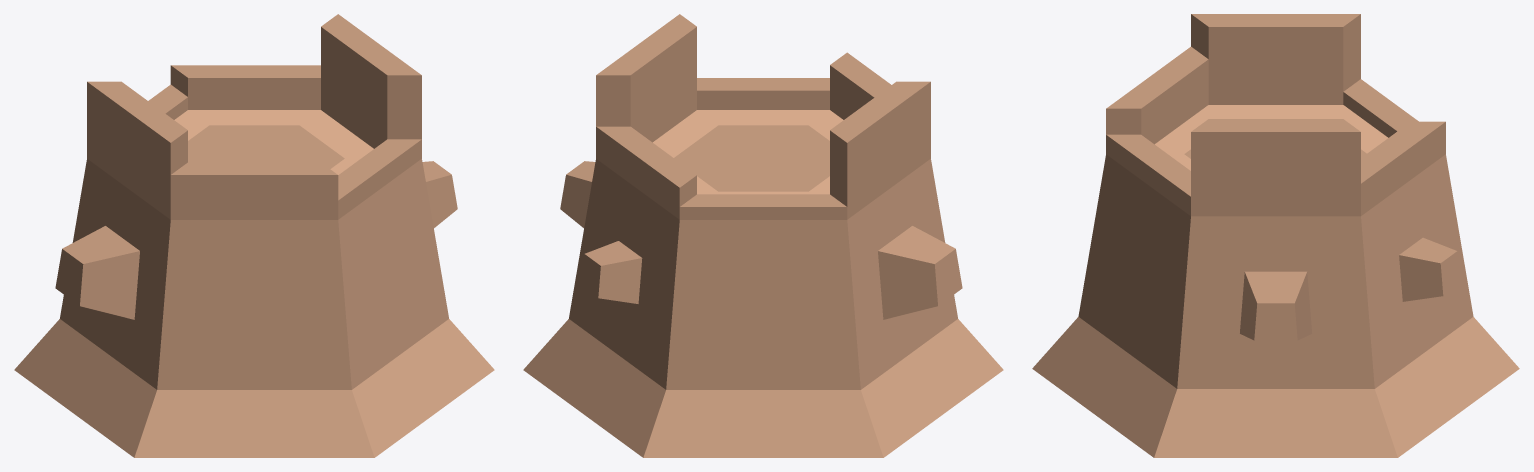
Rendered from trunk.glb.
The picture shows the model from 3 angles, left to right: view 1: azimuth 30°, elevation 25°; view 2: azimuth 150°, elevation 25°; view 3: azimuth 270°, elevation 25°; orthographic projection.
Parts seen in each view (by area): view 1: trunk; view 2: trunk; view 3: trunk.
Part boxes in pixels (x1,y1,x2,y2): trunk: (14,14,494,457); trunk: (523,14,1003,457); trunk: (1032,14,1519,457).
Bounding box in the file's own units: 0.5021 × 0.3726 × 0.5508.
